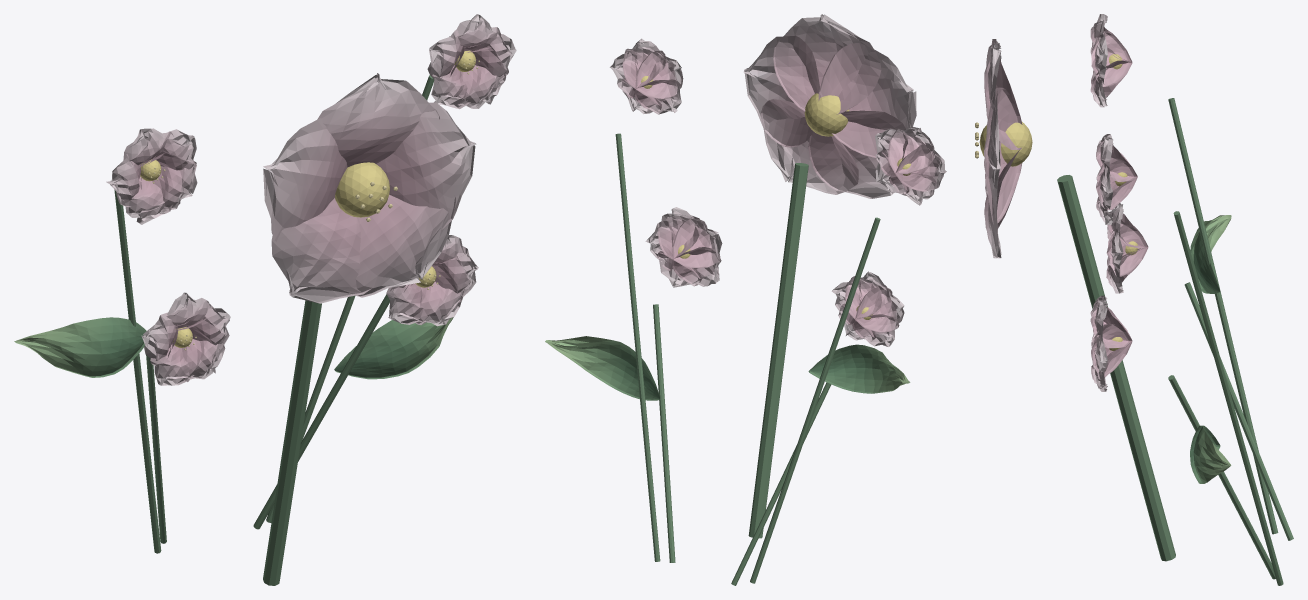
The model's file is ciliegio.glb.
The picture shows the model from 3 angles, left to right: view 1: azimuth 30°, elevation 25°; view 2: azimuth 150°, elevation 25°; view 3: azimuth 270°, elevation 25°; orthographic projection. The views are drawn at different scales.
Parts seen in each view (by area): view 1: PETALO_000, PETALO_004, PETALO_003, PETALO_001, PETALO_002, FOGLIA_RAMOSCELLO_0, RAMO_0, FOGLIA_RAMOSCELLO_1, RAMO_1, CENTRO_0, RAMO_4, PETALO_020 (+19 smaller); view 2: RAMO_0, PETALO_001, PETALO_002, PETALO_000, FOGLIA_RAMOSCELLO_1, PETALO_003, FOGLIA_RAMOSCELLO_0, PETALO_004, RAMO_2, RAMO_1, RAMO_4, PETALO_022 (+14 smaller); view 3: RAMO_0, PETALO_000, RAMO_1, RAMO_2, FOGLIA_RAMOSCELLO_1, RAMO_3, FOGLIA_RAMOSCELLO_0, PETALO_005, PETALO_015, RAMO_4, PETALO_010, PETALO_020 (+6 smaller).
Part boxes in pixels (x1,y1,x2,y2): PETALO_000: (376,102,476,229); PETALO_004: (349,194,455,297); PETALO_003: (271,198,371,303); PETALO_001: (317,73,439,167); PETALO_002: (263,118,347,241); FOGLIA_RAMOSCELLO_0: (14,317,146,377); RAMO_0: (263,300,321,585); FOGLIA_RAMOSCELLO_1: (334,317,453,379); RAMO_1: (114,190,161,553); CENTRO_0: (335,162,389,217); RAMO_4: (253,294,389,529); PETALO_020: (432,246,478,302); RAMO_0: (748,163,808,538); PETALO_001: (773,14,881,114); PETALO_002: (818,43,916,157); PETALO_000: (743,35,820,147); FOGLIA_RAMOSCELLO_1: (545,336,660,400); PETALO_003: (808,110,905,198); FOGLIA_RAMOSCELLO_0: (808,344,910,393); PETALO_004: (760,99,858,194); RAMO_2: (615,133,660,561); RAMO_1: (750,217,880,583); RAMO_4: (653,304,675,562); PETALO_022: (672,219,722,268); RAMO_0: (1057,175,1175,561); PETALO_000: (984,87,1021,223); RAMO_1: (1168,98,1278,534); RAMO_2: (1173,211,1283,585); FOGLIA_RAMOSCELLO_1: (1190,425,1231,483); RAMO_3: (1184,282,1293,540); FOGLIA_RAMOSCELLO_0: (1190,215,1231,293); PETALO_005: (1091,31,1131,86); PETALO_015: (1106,223,1147,276); RAMO_4: (1168,375,1275,579); PETALO_010: (1096,157,1137,210); PETALO_020: (1091,324,1131,379).
Bounding box in the file's own units: 1.77 × 2.16 × 1.2.
